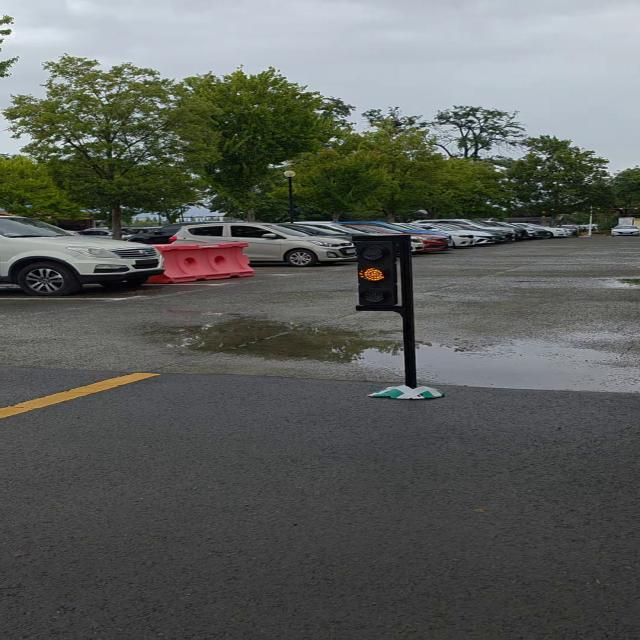yellow: (356, 240, 400, 305)
